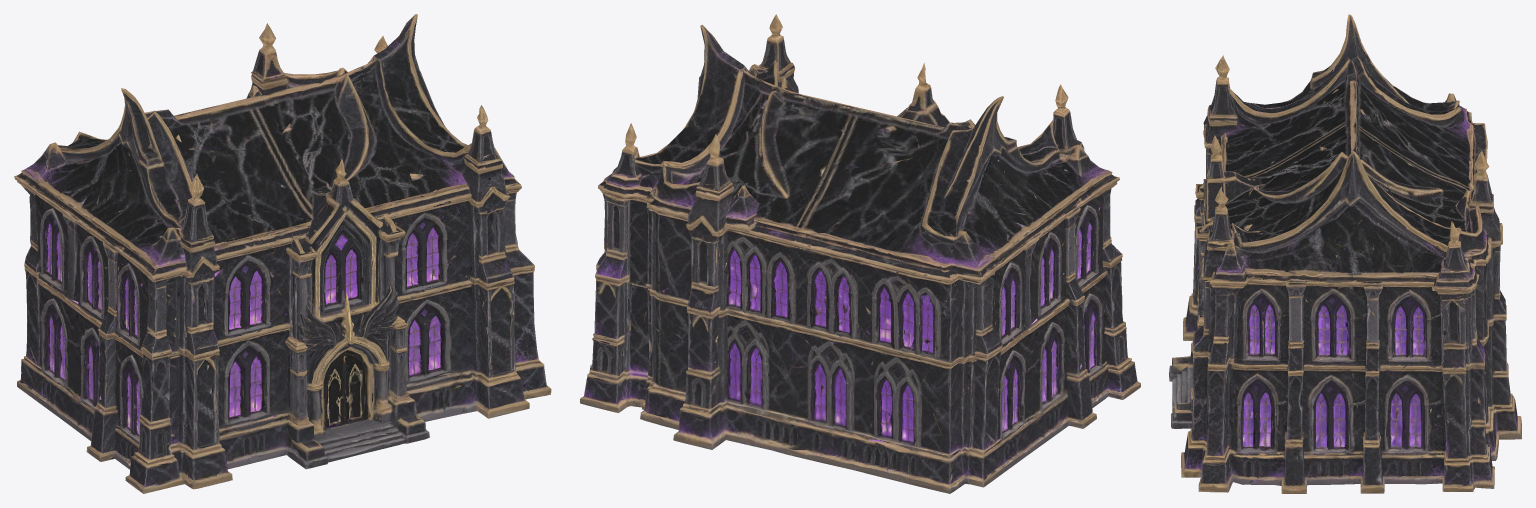
The model's file is sq-obsidian.glb.
3 views of the same model, side by side, from view 1: azimuth 30°, elevation 25°; view 2: azimuth 150°, elevation 25°; view 3: azimuth 270°, elevation 25° (orthographic). The views are drawn at different scales.
Visible parts, largest first — view 1: lod0; view 2: lod0; view 3: lod0.
Boxes of the visible parts, x1,y1,x2,y2 form: lod0: [14, 14, 551, 493]; lod0: [580, 14, 1140, 493]; lod0: [1169, 14, 1521, 493].
Size of what is drawn, in the model's own units: 1.9 by 1.47 by 1.49.
1 material, 1 textured.
